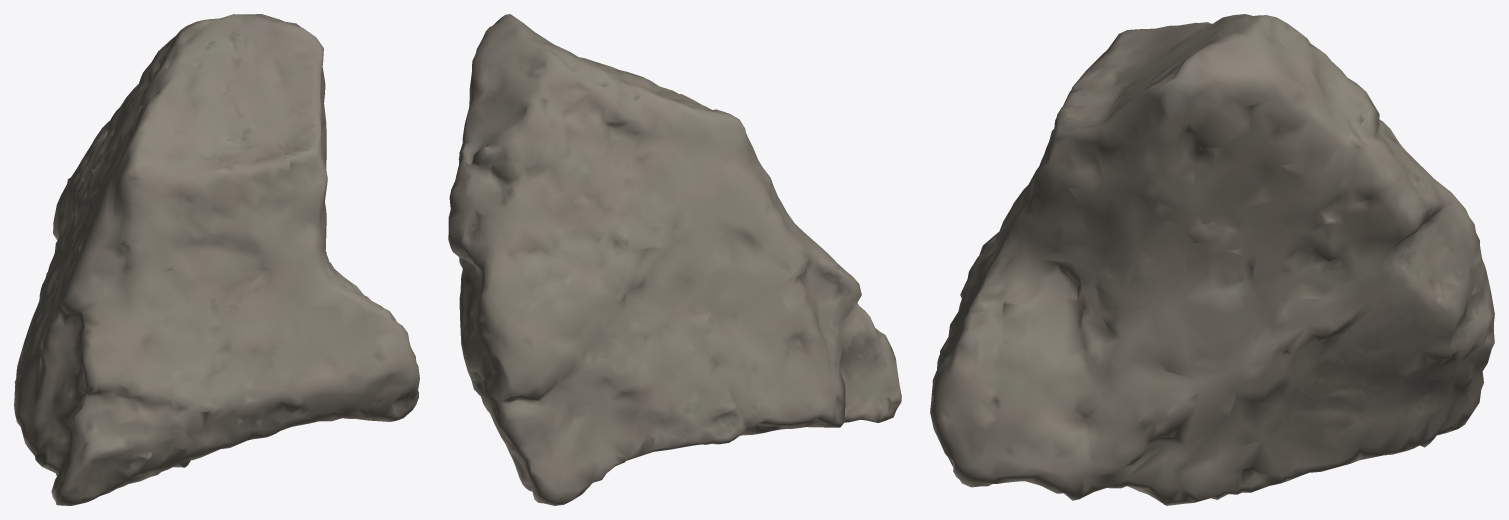
File: moon_rock_05.glb
3 views of the same model, side by side, from view 1: azimuth 30°, elevation 25°; view 2: azimuth 150°, elevation 25°; view 3: azimuth 270°, elevation 25° (orthographic). The views are drawn at different scales.
Visible parts, largest first — view 1: moon_rock_05_LOD0; view 2: moon_rock_05_LOD0; view 3: moon_rock_05_LOD0.
Part boxes in pixels (x1,y1,x2,y2): moon_rock_05_LOD0: (14, 14, 419, 505); moon_rock_05_LOD0: (448, 14, 901, 505); moon_rock_05_LOD0: (930, 14, 1494, 505).
Bounding box in the file's own units: 0.0717 × 0.0734 × 0.0811.
Materials: 1 (1 with a texture image).
